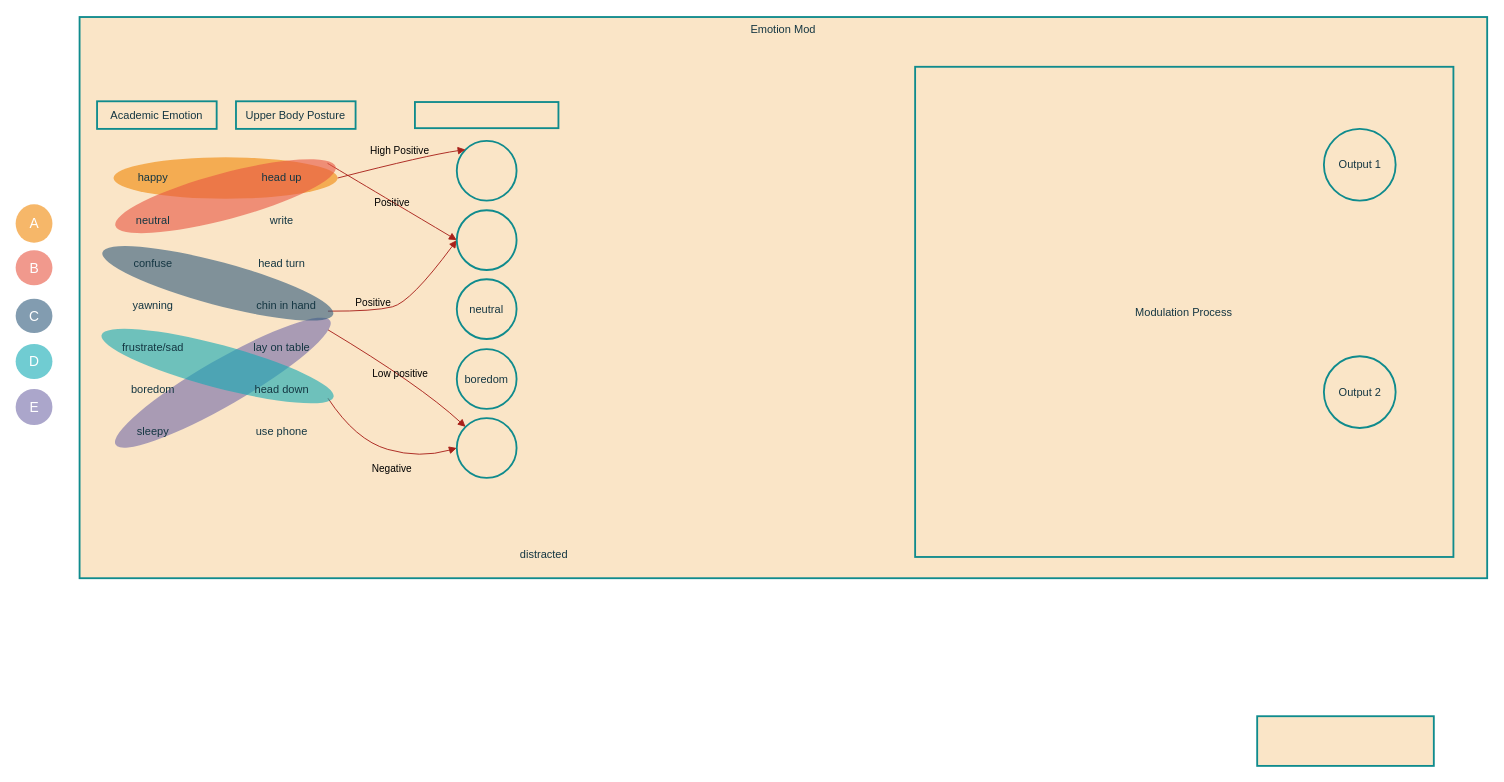
Image size: 1504x782. Some labels were removed from this diagram. The shapes that lost their labels are listed below. From the top down, each one's centre as x and y in pixels, then its label:
[486,115]: Student Affective State
[486,170]: enjoyment
[486,239]: consentrate
[486,447]: distraction
[1345,740]: ModulationProcess
